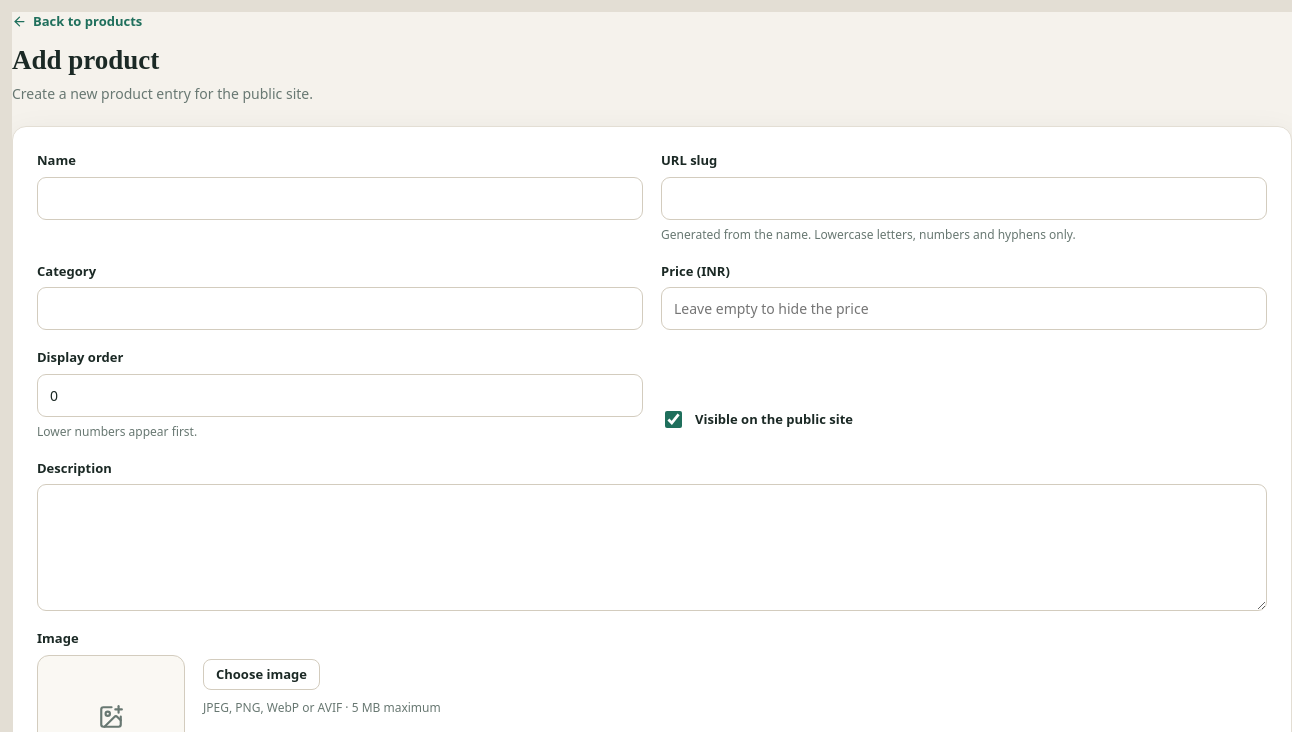
Test: catalogue form › generates a slug from the name
Type "Silk Aari Blouse" into the field labelled "Name" at (340, 198), box [37,176,643,220]
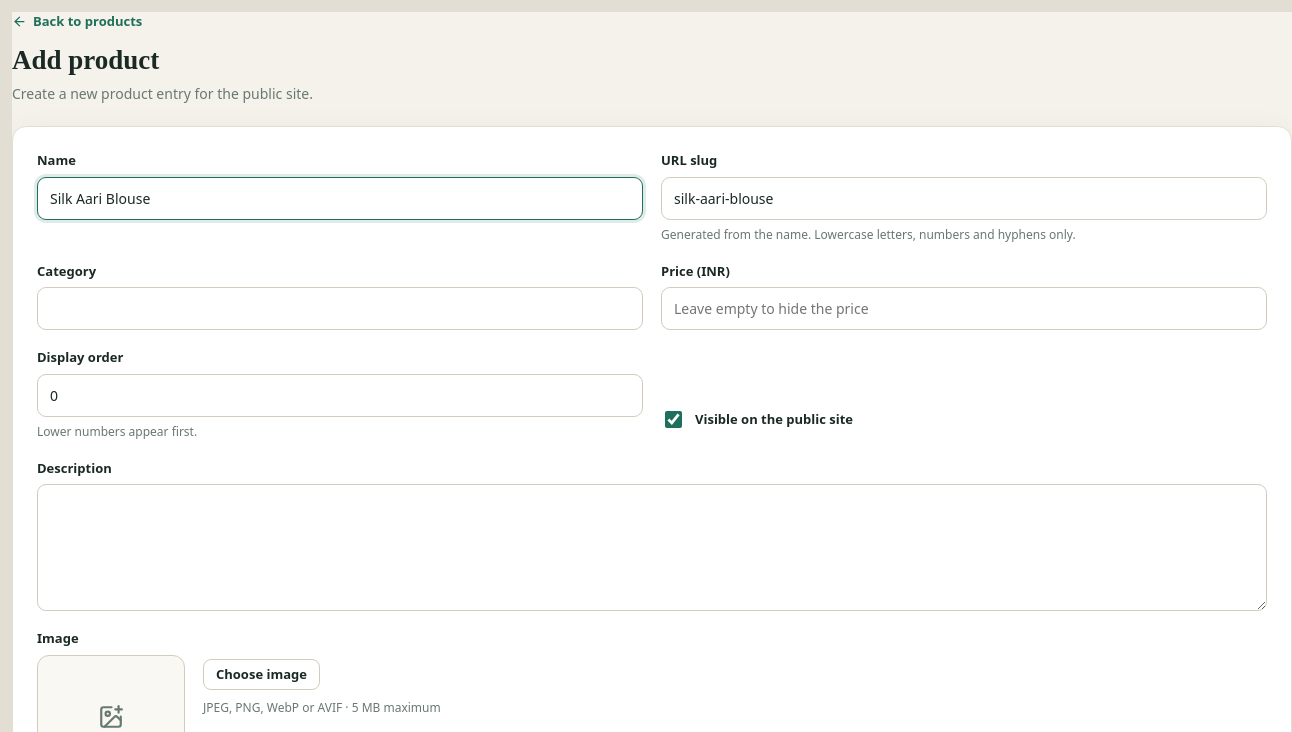
Now the field labelled "URL slug" holds "silk-aari-blouse", box [661,176,1267,220]
